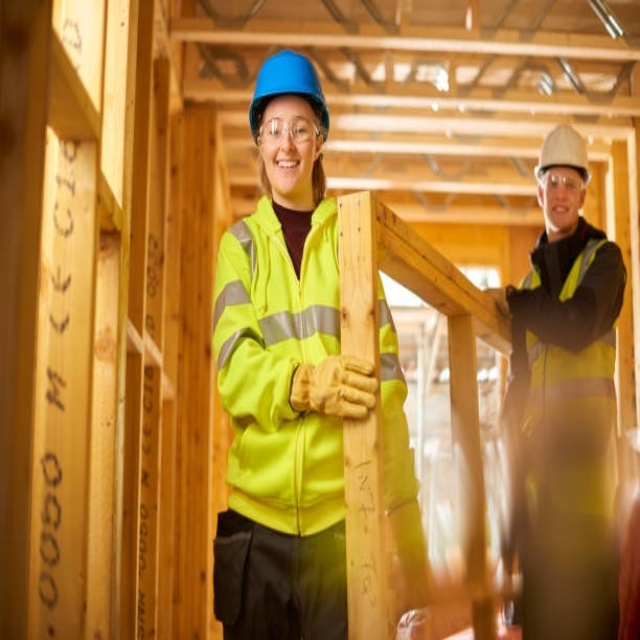Gafas: (259, 118, 322, 145), (540, 172, 585, 191)
Guantes: (288, 350, 383, 424)
Sin_mascara: (268, 152, 306, 188), (549, 198, 572, 224)
